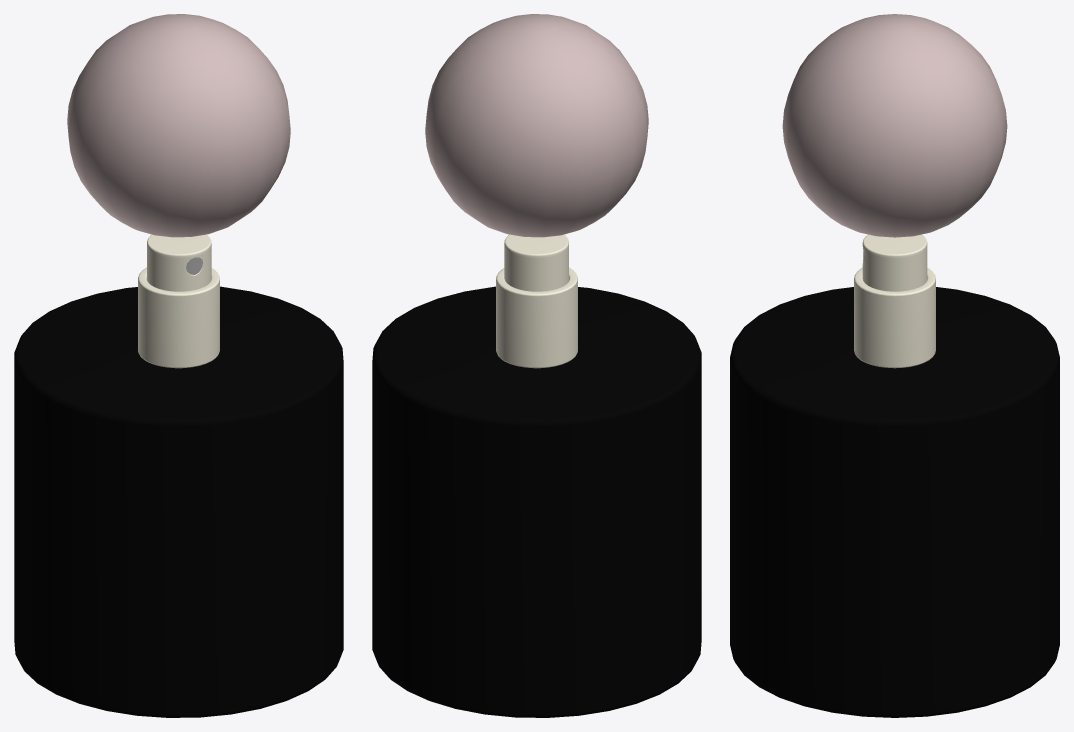
The model's file is perfume.fbx.
3 views of the same model, side by side, from view 1: azimuth 30°, elevation 25°; view 2: azimuth 150°, elevation 25°; view 3: azimuth 270°, elevation 25° (orthographic).
Visible parts, largest first — view 1: perfumeBottle_4, perfumeBottle_1, perfumeBottle_3, perfumeBottle_2; view 2: perfumeBottle_4, perfumeBottle_1, perfumeBottle_3, perfumeBottle_2; view 3: perfumeBottle_4, perfumeBottle_1, perfumeBottle_3, perfumeBottle_2.
Boxes of the visible parts, x1,y1,x2,y2 form: perfumeBottle_4: (14, 286, 343, 717); perfumeBottle_1: (67, 14, 290, 237); perfumeBottle_3: (138, 267, 219, 368); perfumeBottle_2: (147, 234, 211, 291); perfumeBottle_4: (372, 286, 701, 717); perfumeBottle_1: (425, 14, 648, 237); perfumeBottle_3: (496, 267, 577, 368); perfumeBottle_2: (504, 234, 568, 291); perfumeBottle_4: (730, 287, 1059, 717); perfumeBottle_1: (782, 14, 1007, 237); perfumeBottle_3: (854, 268, 935, 368); perfumeBottle_2: (862, 234, 927, 291).
Bounding box in the file's own units: 4.45 × 9.34 × 4.45.
